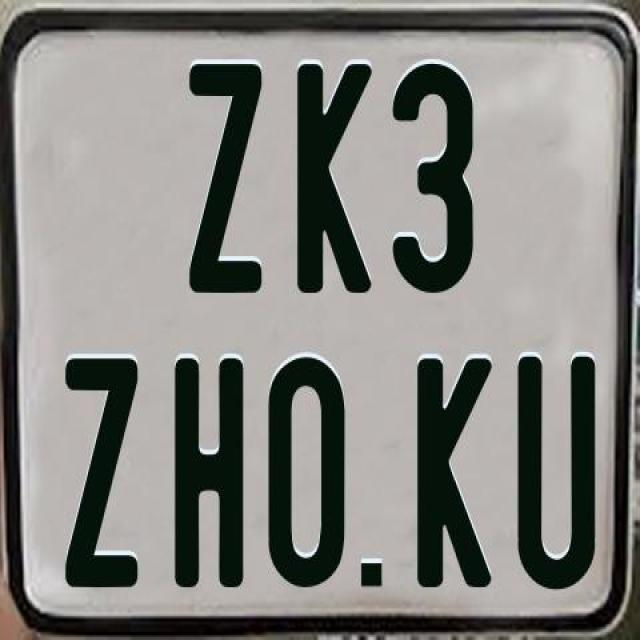0: (268, 352, 350, 582)
3: (388, 59, 472, 294)
H: (172, 355, 243, 587)
K: (414, 358, 490, 594), (294, 63, 370, 294)
U: (514, 352, 592, 586)
Z: (65, 356, 143, 590), (185, 60, 260, 298)
